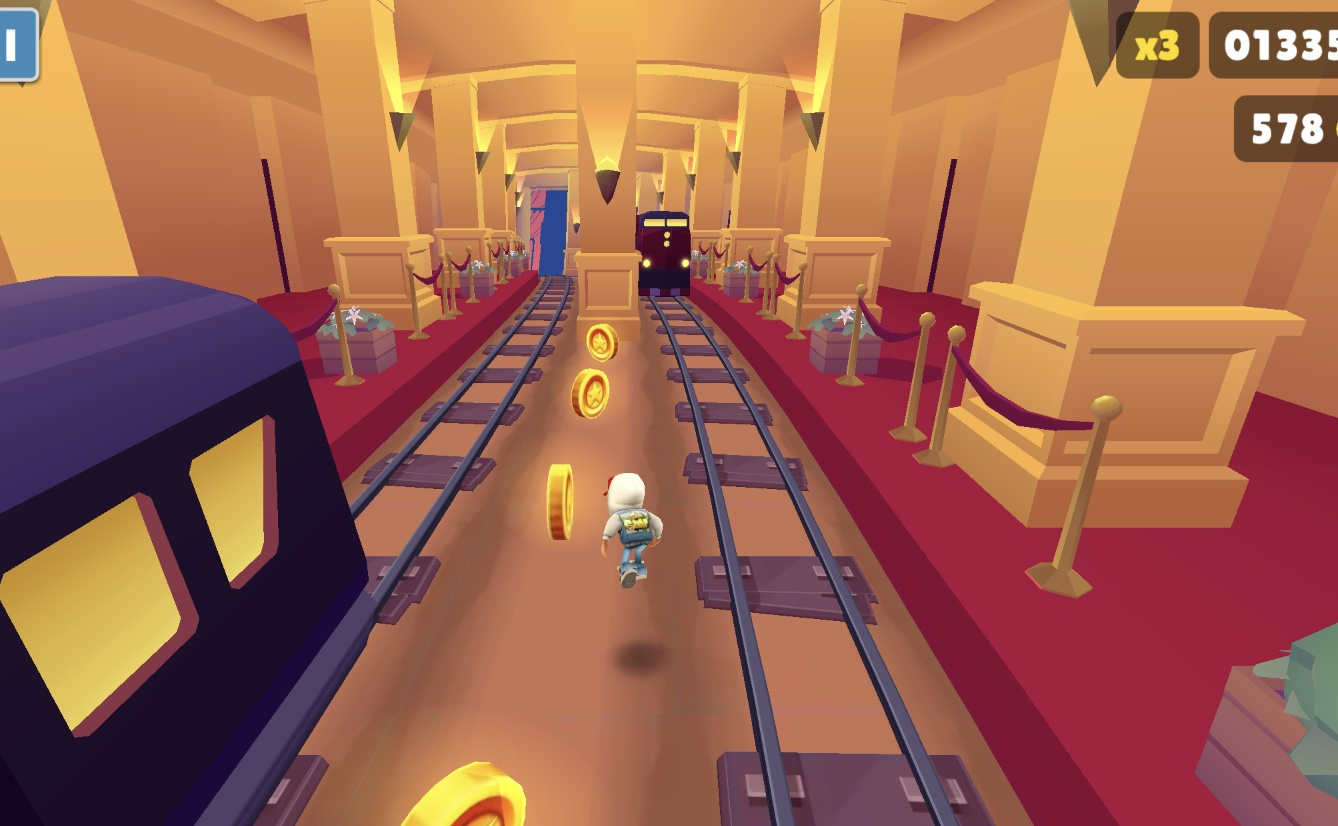pillar: (572, 0, 644, 339)
train: (0, 277, 382, 826), (634, 212, 691, 304)
